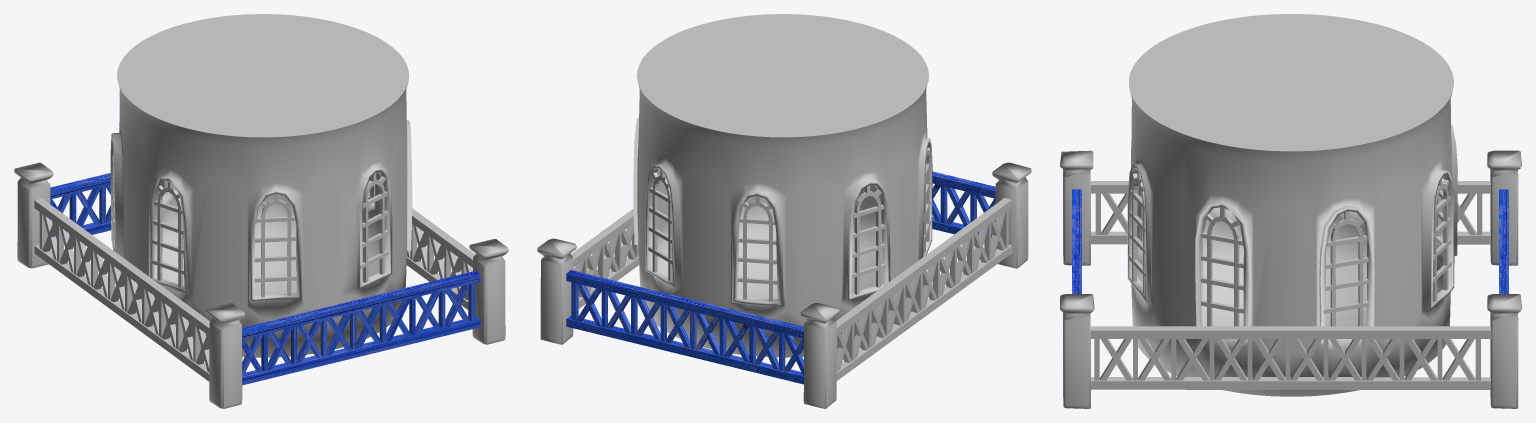
The model's file is level2-remaster2 outline.fbx.
3 views of the same model, side by side, from view 1: azimuth 30°, elevation 25°; view 2: azimuth 150°, elevation 25°; view 3: azimuth 270°, elevation 25° (orthographic). The views are drawn at different scales.
Visible parts, largest first — view 1: Cylinder, Level2Top, Fence1, Fence1.001, Collar1.010, Collar1.007, Cube.014, Collar1.009, Fence1.002, Cube.005, Cube.004, Cube.007; view 2: Cylinder, Level2Top, Fence1.002, Fence1.001, Collar1.009, Collar1.008, Cube.014, Collar1.010, Fence1, Cube.064, Cube.012, Cube.011 (+1 smaller); view 3: Cylinder, Level2Top, Cube.014, Collar1.008, Collar1.007, Fence1.001, Collar1.009, Collar1.010, Cube.009, Cube.010, Cube.011, Cube.007 (+2 smaller).
Part boxes in pixels (x1,y1,x2,y2): Cylinder: (110,84,412,357); Level2Top: (117,14,409,137); Fence1: (242,270,480,385); Fence1.001: (34,198,209,381); Collar1.010: (206,303,245,408); Collar1.007: (469,239,508,344); Cube.014: (368,180,475,309); Collar1.009: (14,162,53,268); Fence1.002: (50,173,111,239); Cube.005: (254,193,296,301); Cube.004: (150,181,183,287); Cube.007: (358,172,388,282); Cylinder: (633,84,932,357); Level2Top: (637,14,928,137); Fence1.002: (566,270,803,384); Fence1.001: (836,198,1012,380); Collar1.009: (800,303,839,408); Collar1.008: (537,238,576,344); Cube.014: (571,208,639,308); Collar1.010: (992,162,1031,268); Fence1: (932,171,995,237); Cube.064: (852,185,886,294); Cube.012: (737,196,777,301); Cube.011: (648,170,672,281); Cylinder: (1127,93,1457,396); Level2Top: (1129,14,1453,151); Cube.014: (1090,326,1491,389); Collar1.008: (1487,294,1521,408); Collar1.007: (1060,294,1094,408); Fence1.001: (1090,181,1490,244); Collar1.009: (1487,150,1521,265); Collar1.010: (1060,150,1093,265); Cube.009: (1201,207,1243,326); Cube.010: (1323,211,1368,326); Cube.011: (1432,178,1451,301); Cube.007: (1128,170,1145,294).
Size of the model in its own units: 156 by 115 by 193.
